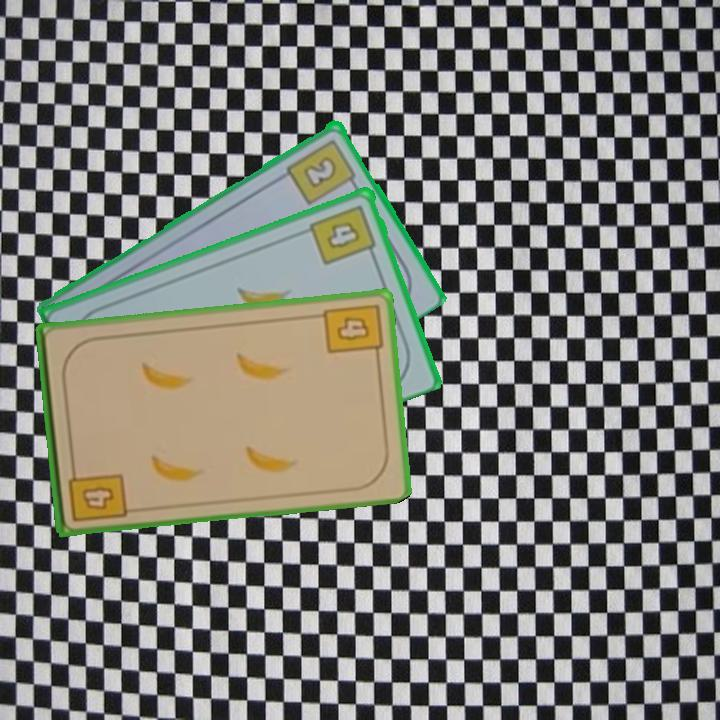2b: (283, 134, 361, 208)
4b: (307, 200, 380, 267), (64, 460, 129, 525), (320, 300, 385, 362)
